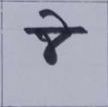e_matra: (38, 9, 73, 27)
